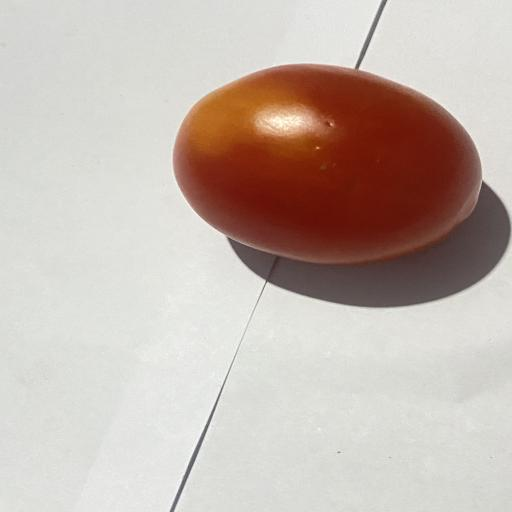ripe: (173, 64, 481, 264)
